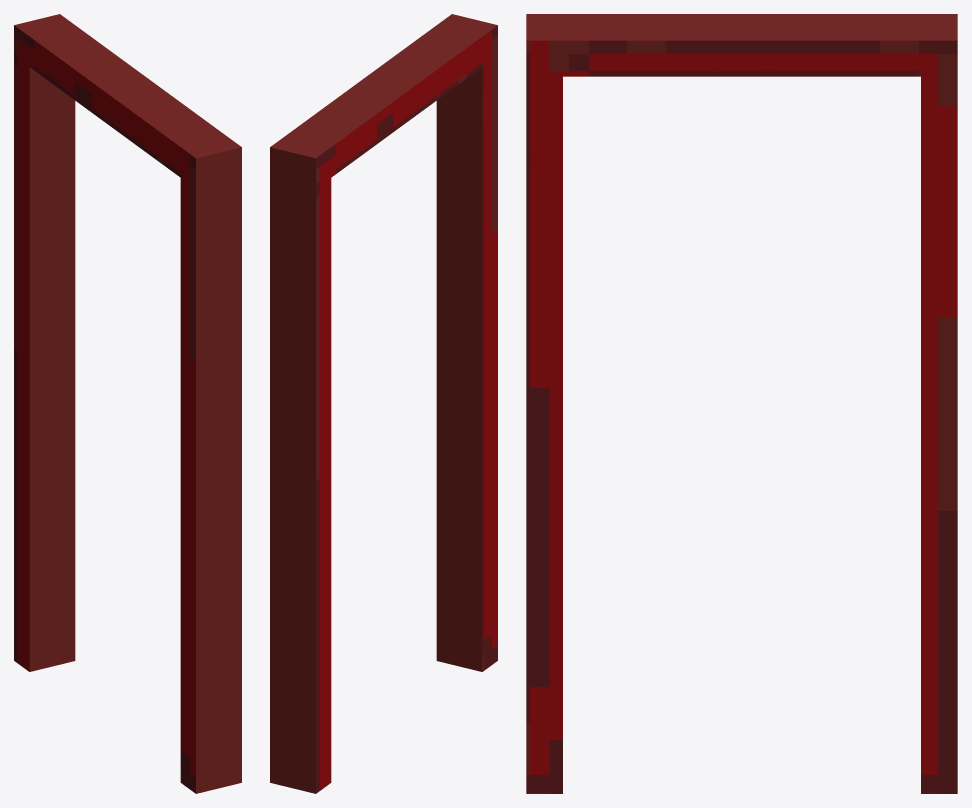
The model's file is FrameDoorExit_3D.fbx.
3 views of the same model, side by side, from view 1: azimuth 30°, elevation 25°; view 2: azimuth 150°, elevation 25°; view 3: azimuth 270°, elevation 25° (orthographic). The views are drawn at different scales.
Visible parts, largest first — view 1: Cube; view 2: Cube; view 3: Cube.
Boxes of the visible parts, x1,y1,x2,y2 form: Cube: (14, 14, 241, 793); Cube: (270, 14, 497, 793); Cube: (526, 14, 957, 793).
Bounding box in the file's own units: 386 × 5111 × 2652.
Materials: 1 (1 with a texture image).
